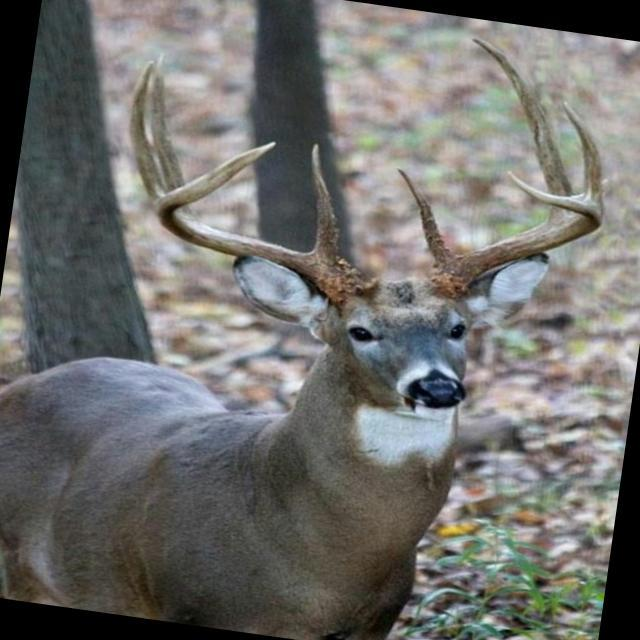L-F: (429, 175, 604, 300)
L-G1: (396, 168, 454, 268)
L-G3: (562, 100, 604, 203)
R-F: (153, 140, 371, 304)
R-G1: (311, 143, 339, 257)
